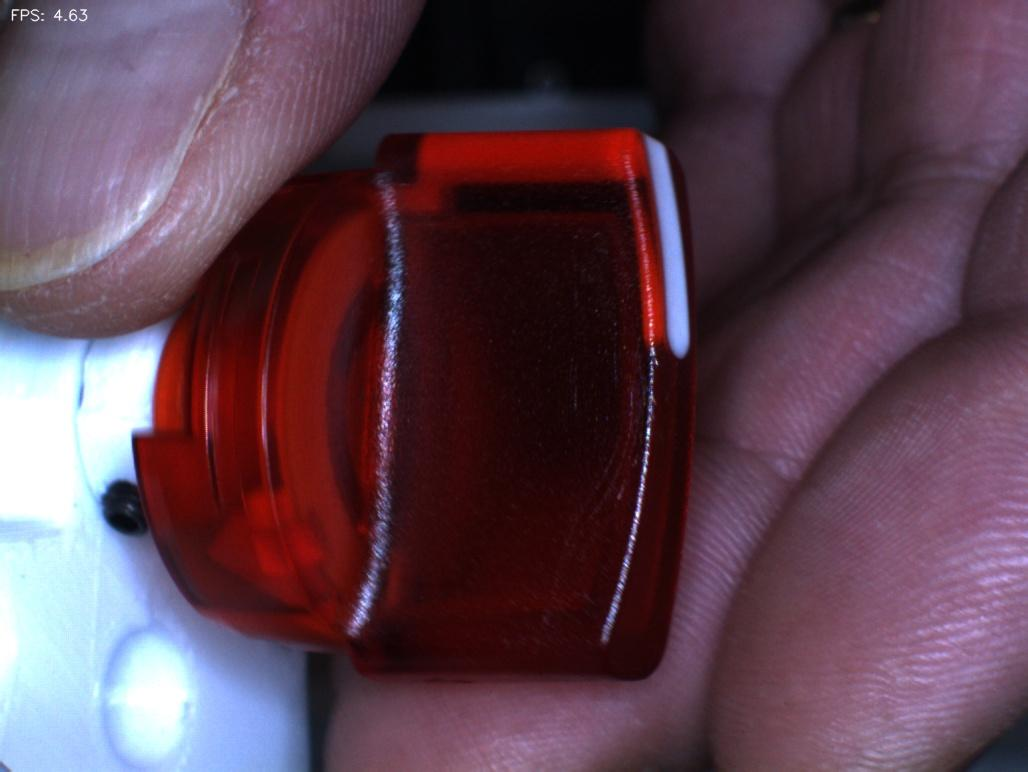Givrage: (552, 323, 645, 596)
